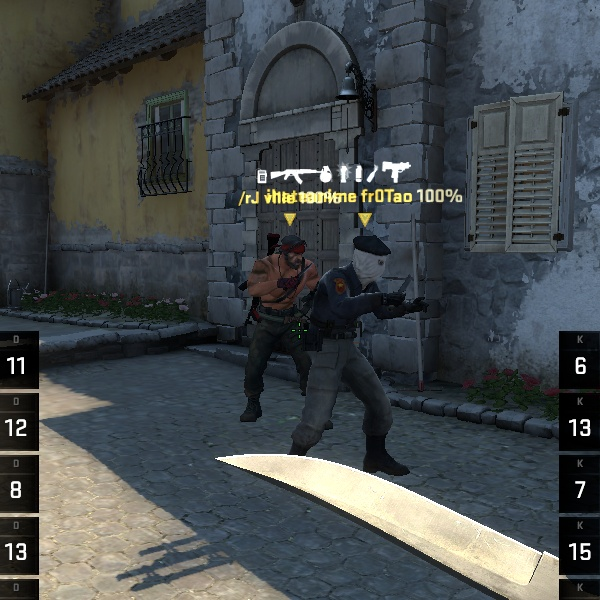t_head: (268, 229, 314, 275)
